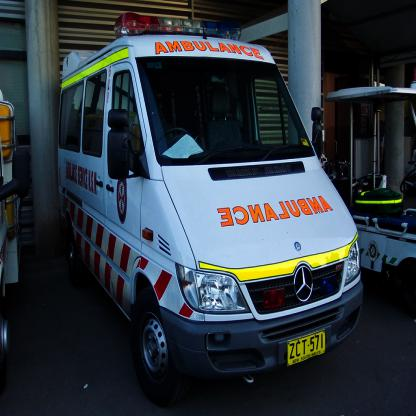Ambulance: (58, 10, 362, 405)
